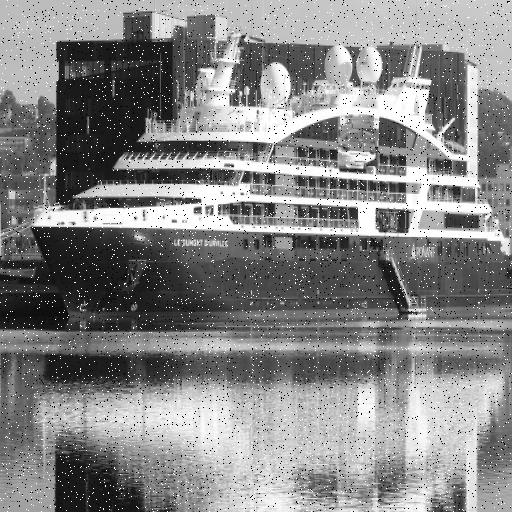cruises: (27, 31, 512, 332)
